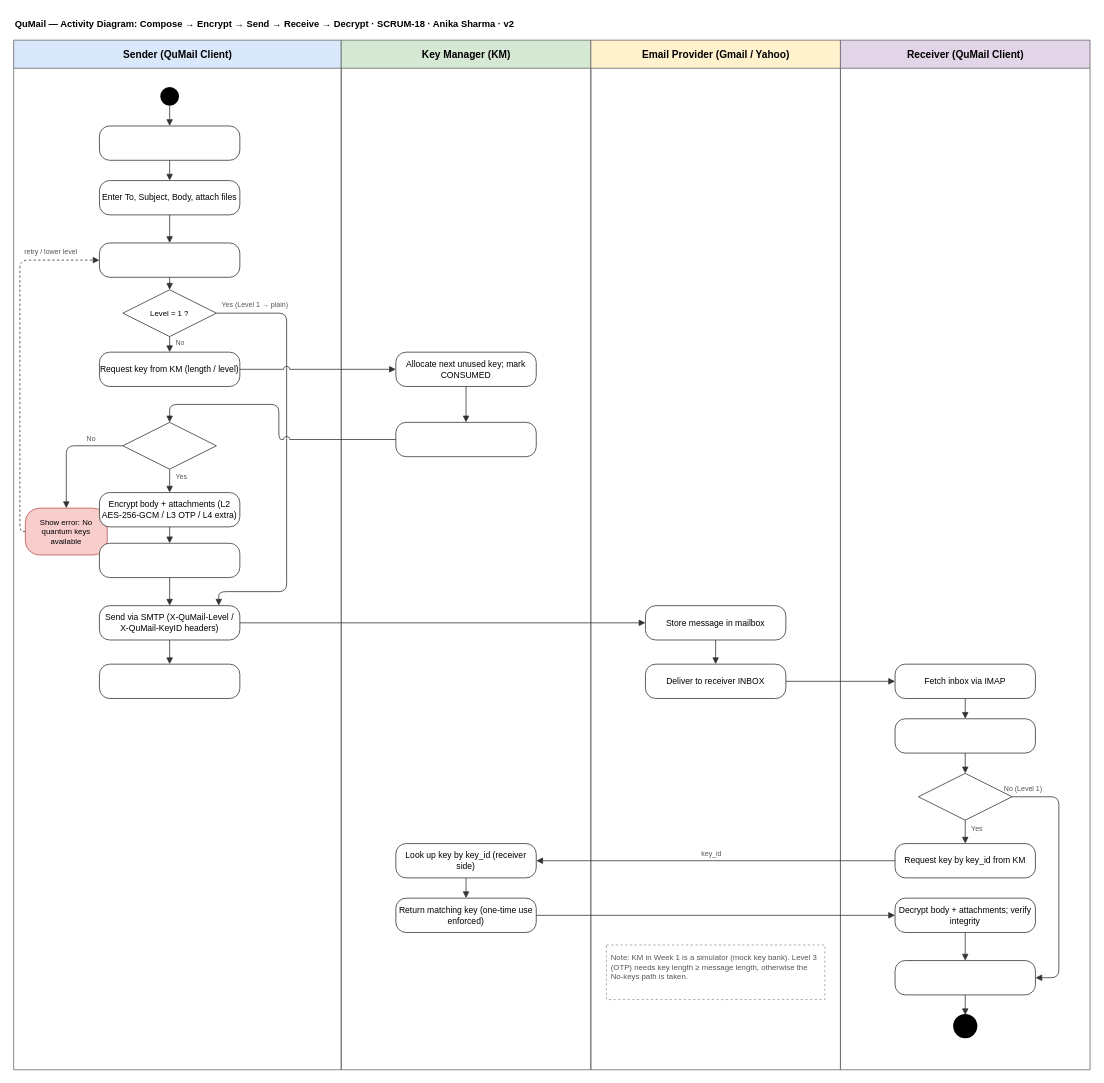
Some shapes in this 1104 by 1083 pixel diagram are drawn without their labels. Each missing label, with the centre of its shape:
"Build envelope: level, key_id, nonce, ciphertext (base64)" belongs at (169,560).
"Display plaintext email" belongs at (964,977).
"Encrypted (level > 1) ?" belongs at (965,796).
"Key available ?" belongs at (169,445).
"Log key usage (audit trail)" belongs at (169,680).
"Login (IMAP/SMTP) and open Compose" belongs at (169,142).
"Open message; read X-QuMail headers" belongs at (964,735).
"Return key + key_id" belongs at (465,439).
"Select Security Level (1 / 2 / 3 / 4)" belongs at (169,259).
